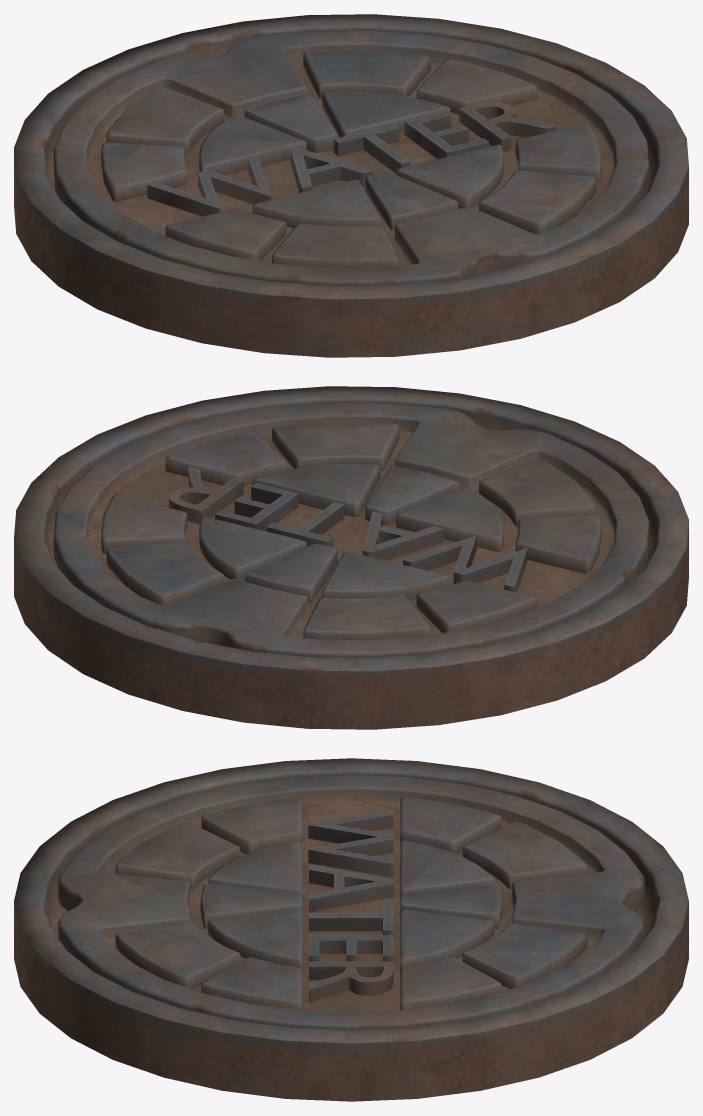
The model's file is manhole.glb.
3 views of the same model, one above another, from view 1: azimuth 30°, elevation 25°; view 2: azimuth 150°, elevation 25°; view 3: azimuth 270°, elevation 25° (orthographic).
Visible parts, largest first — view 1: water_manhole_cover, water_manhole_cover_frame; view 2: water_manhole_cover, water_manhole_cover_frame; view 3: water_manhole_cover, water_manhole_cover_frame.
Boxes of the visible parts, x1,y1,x2,y2 form: water_manhole_cover: (53, 30, 649, 286); water_manhole_cover_frame: (14, 14, 688, 357); water_manhole_cover: (53, 402, 649, 658); water_manhole_cover_frame: (14, 386, 688, 729); water_manhole_cover: (58, 774, 644, 1030); water_manhole_cover_frame: (14, 758, 688, 1101).
Bounding box in the file's own units: 0.8 × 0.0783 × 0.8.
1 material, 1 textured.
